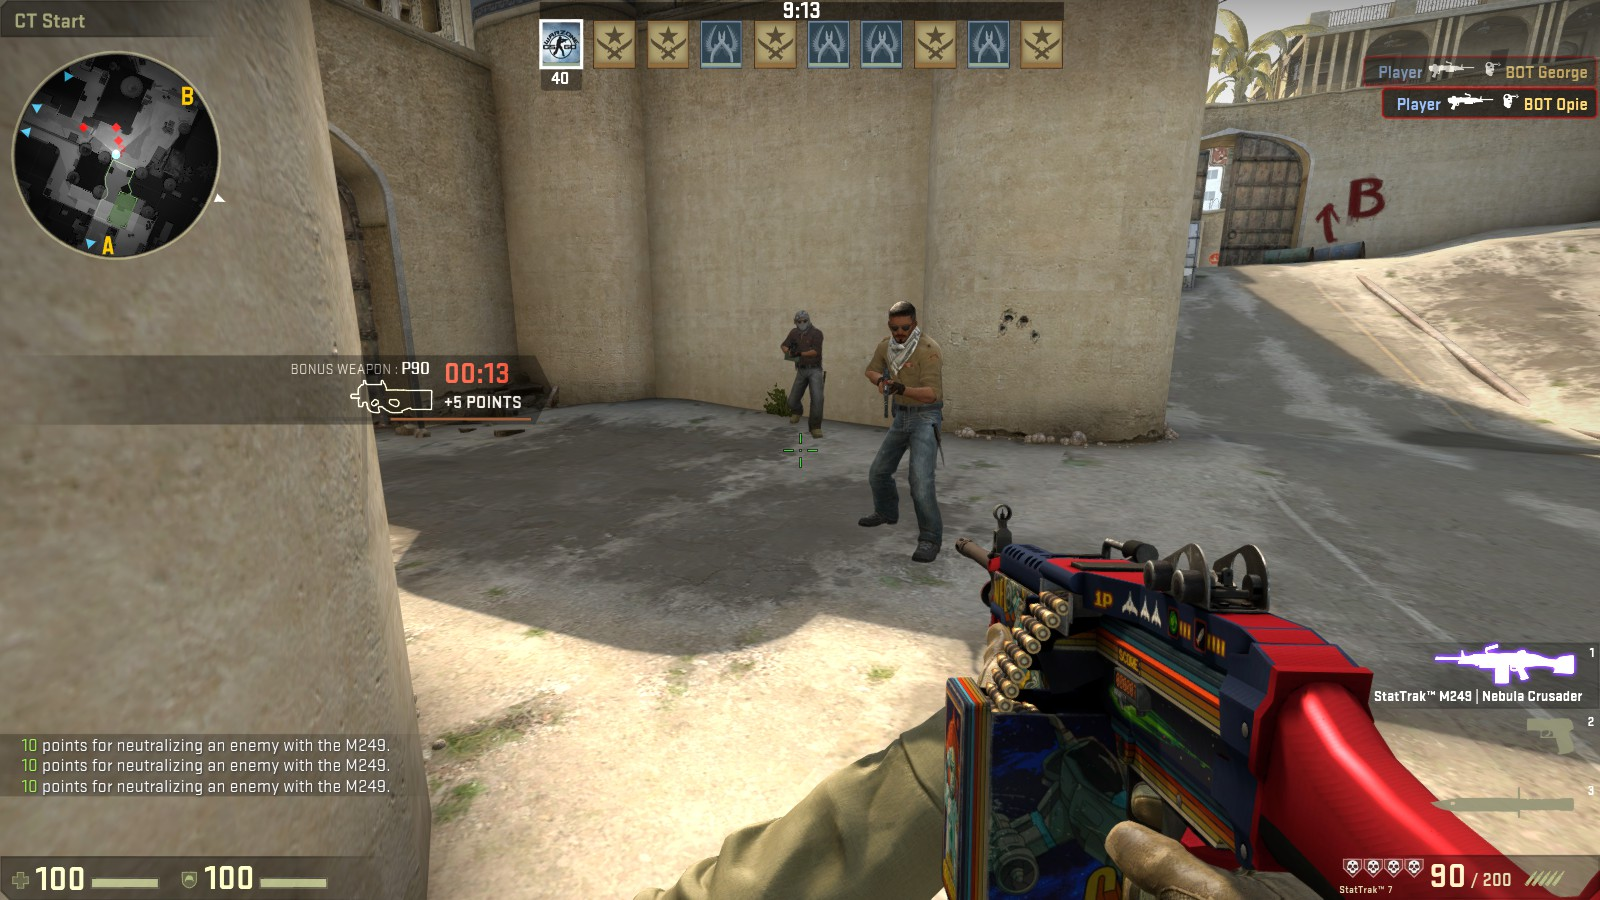t: (860, 297, 946, 565), (781, 305, 832, 434)
th: (886, 299, 924, 344), (792, 307, 815, 327)
